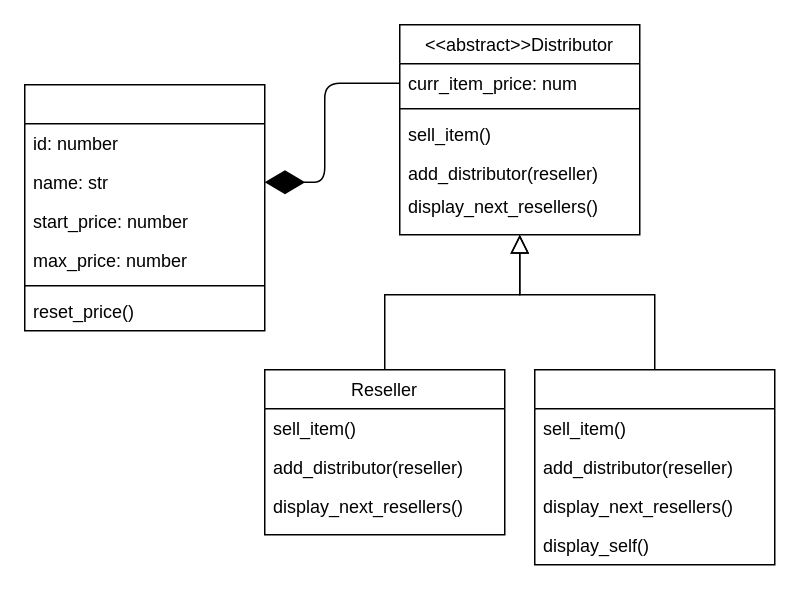
This 800x590 diagram has some shape labels left out. The shapes that lost their labels are listed below. From the top down, each one's box as (x1, y1, x2, y2) in pixels, then its label:
(23, 83, 265, 331): Item
(533, 368, 775, 565): DistributorComposite
